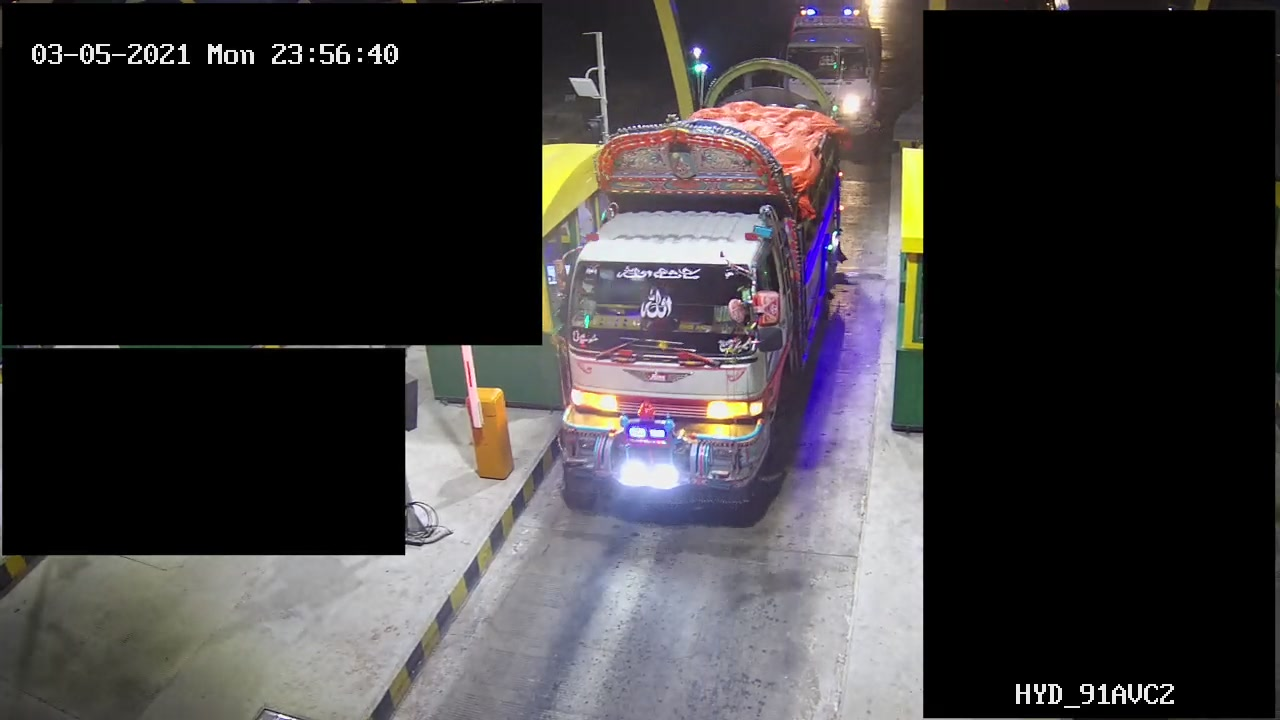F5: (551, 53, 832, 503)
